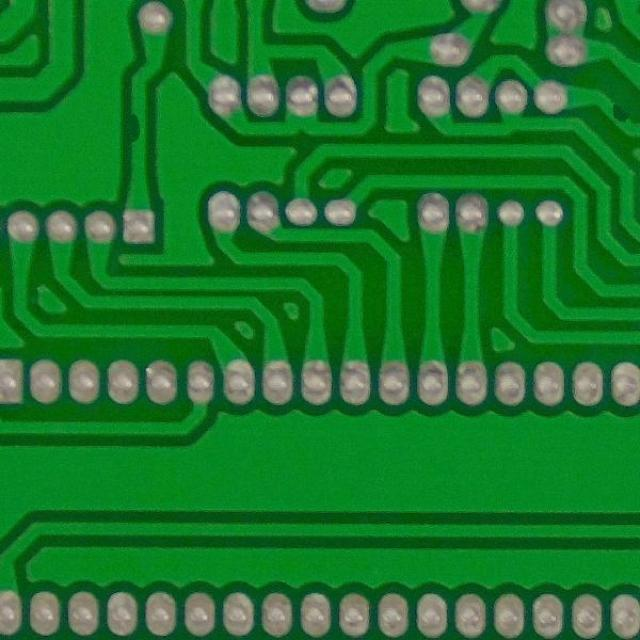mouse_bite: (604, 97, 636, 130), (122, 108, 150, 144)
